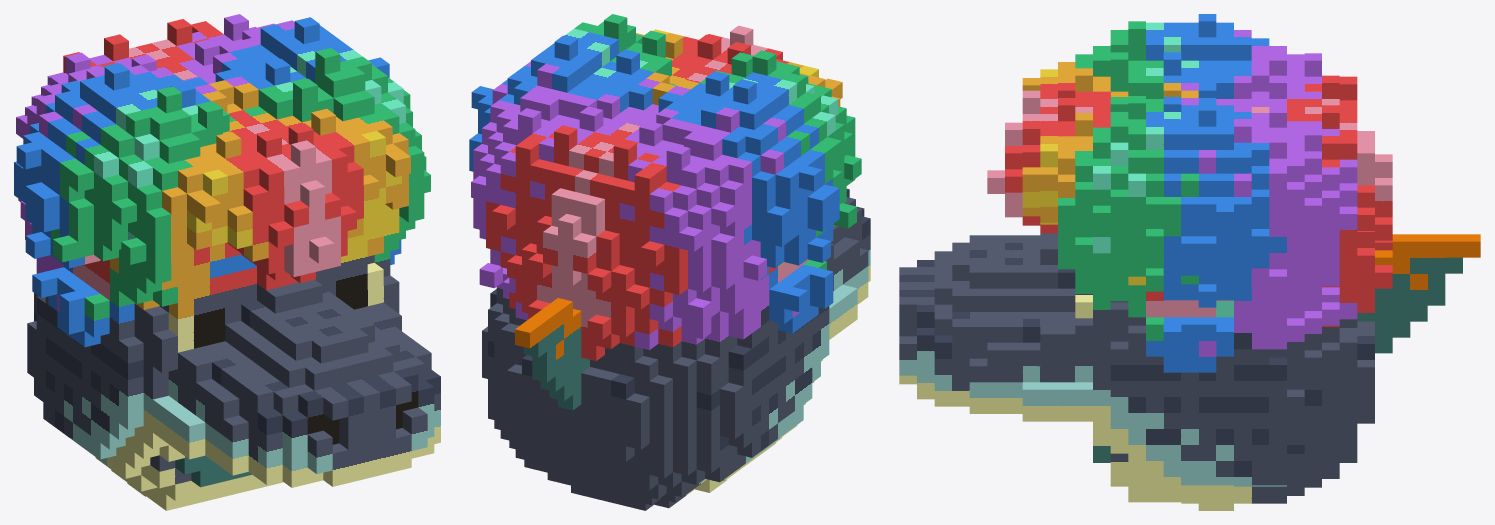
File: clown wig_rainbow spectacles.gltf
The picture shows the model from 3 angles, left to right: view 1: azimuth 30°, elevation 25°; view 2: azimuth 150°, elevation 25°; view 3: azimuth 270°, elevation 25°; orthographic projection. The views are drawn at different scales.
Visible parts, largest first — view 1: C08_H_ClownW_RedG_RainbowSpec-Mesh; view 2: C08_H_ClownW_RedG_RainbowSpec-Mesh; view 3: C08_H_ClownW_RedG_RainbowSpec-Mesh.
Part boxes in pixels (bbox=[...]): C08_H_ClownW_RedG_RainbowSpec-Mesh: bbox=[14, 14, 440, 510]; C08_H_ClownW_RedG_RainbowSpec-Mesh: bbox=[469, 14, 870, 510]; C08_H_ClownW_RedG_RainbowSpec-Mesh: bbox=[899, 14, 1480, 510].
Bounding box in the file's own units: 23 × 26 × 33.
Materials: 1 (1 with a texture image).
